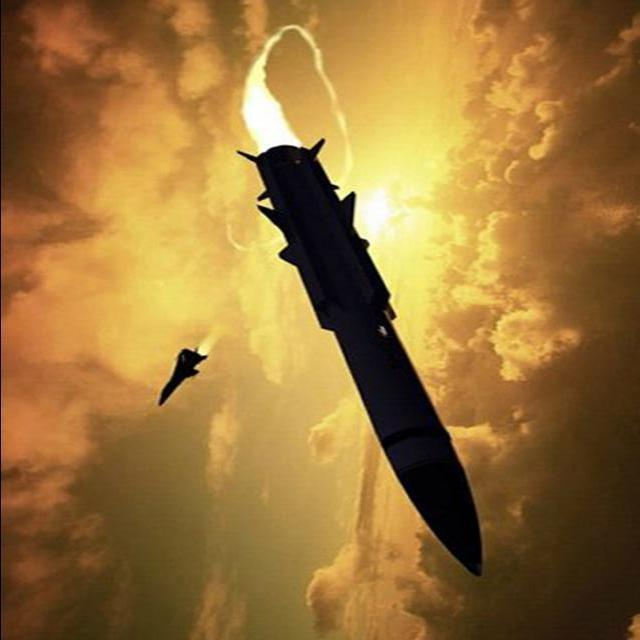missile: (232, 143, 488, 581)
